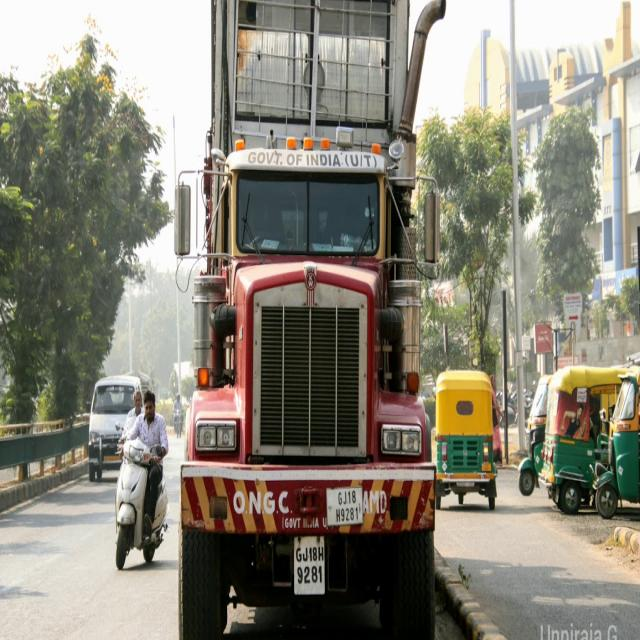Truck: (175, 133, 435, 640)
autorikshaw: (546, 370, 624, 516), (432, 369, 498, 515), (596, 358, 640, 516), (520, 371, 570, 510)
car: (87, 374, 147, 484)
motorcycle: (110, 427, 170, 573)
